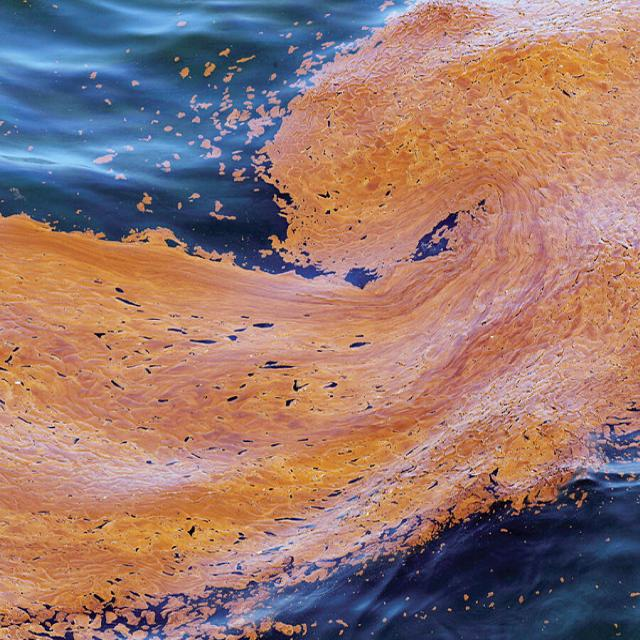sheen: (0, 0, 640, 639)
